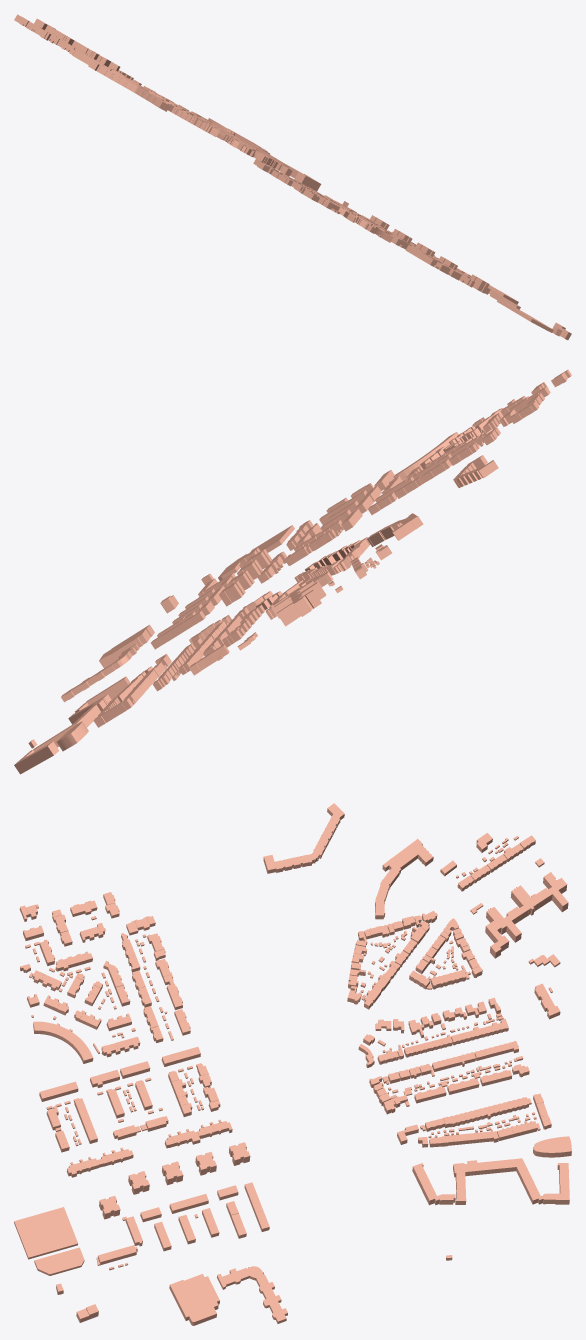
3 views of the same model, one above another, from view 1: azimuth 30°, elevation 25°; view 2: azimuth 150°, elevation 25°; view 3: azimuth 270°, elevation 25° (orthographic). The views are drawn at different scales.
Bounding box in the file's own units: 548 × 410 × 636.
